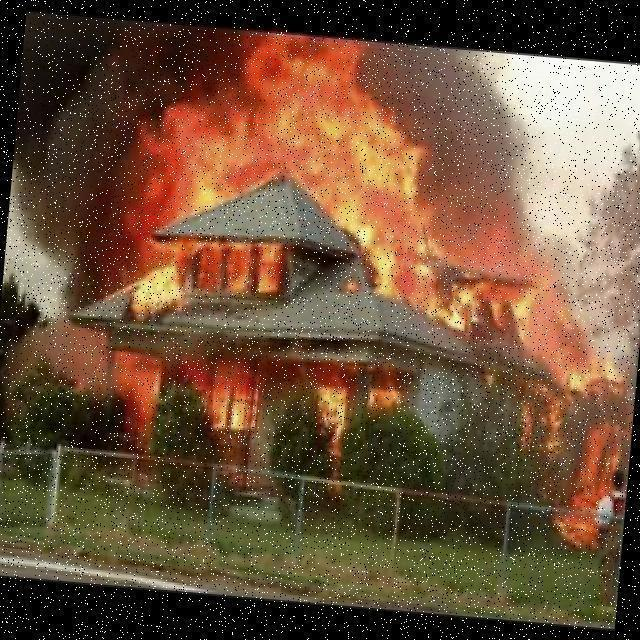Fire: (162, 28, 362, 314), (508, 300, 640, 556), (339, 91, 436, 301), (420, 244, 532, 340), (307, 374, 409, 454), (189, 365, 263, 445)
Smoke: (2, 8, 186, 312), (422, 49, 550, 254), (531, 225, 591, 305)
